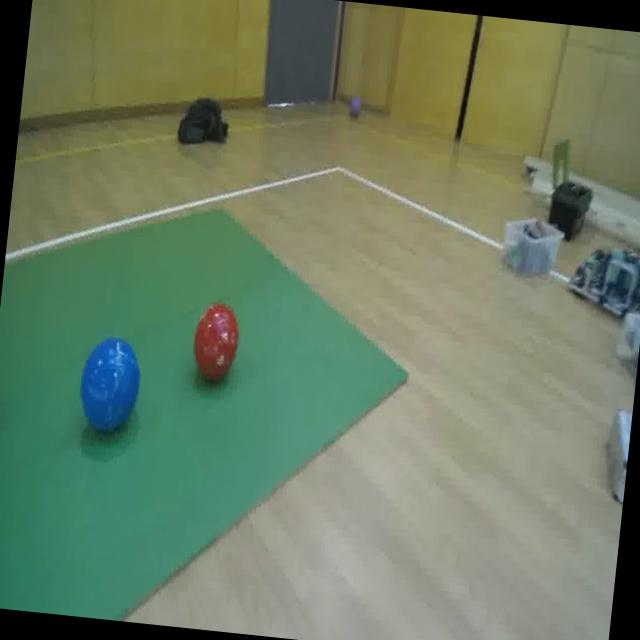blue_ball: (70, 328, 148, 444)
purple_ball: (344, 95, 364, 121)
red_ball: (190, 297, 243, 383)
